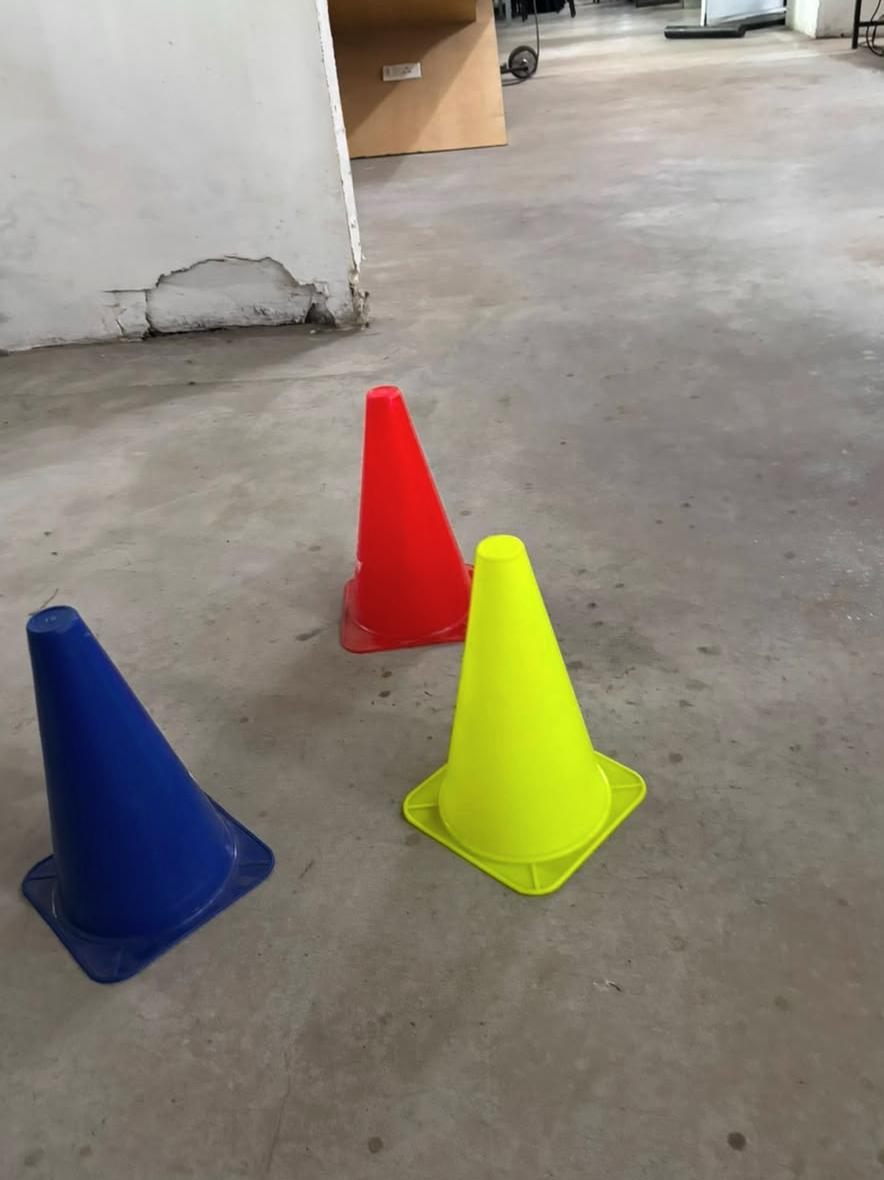0 cone: (341, 387, 645, 894), (23, 607, 273, 982)
